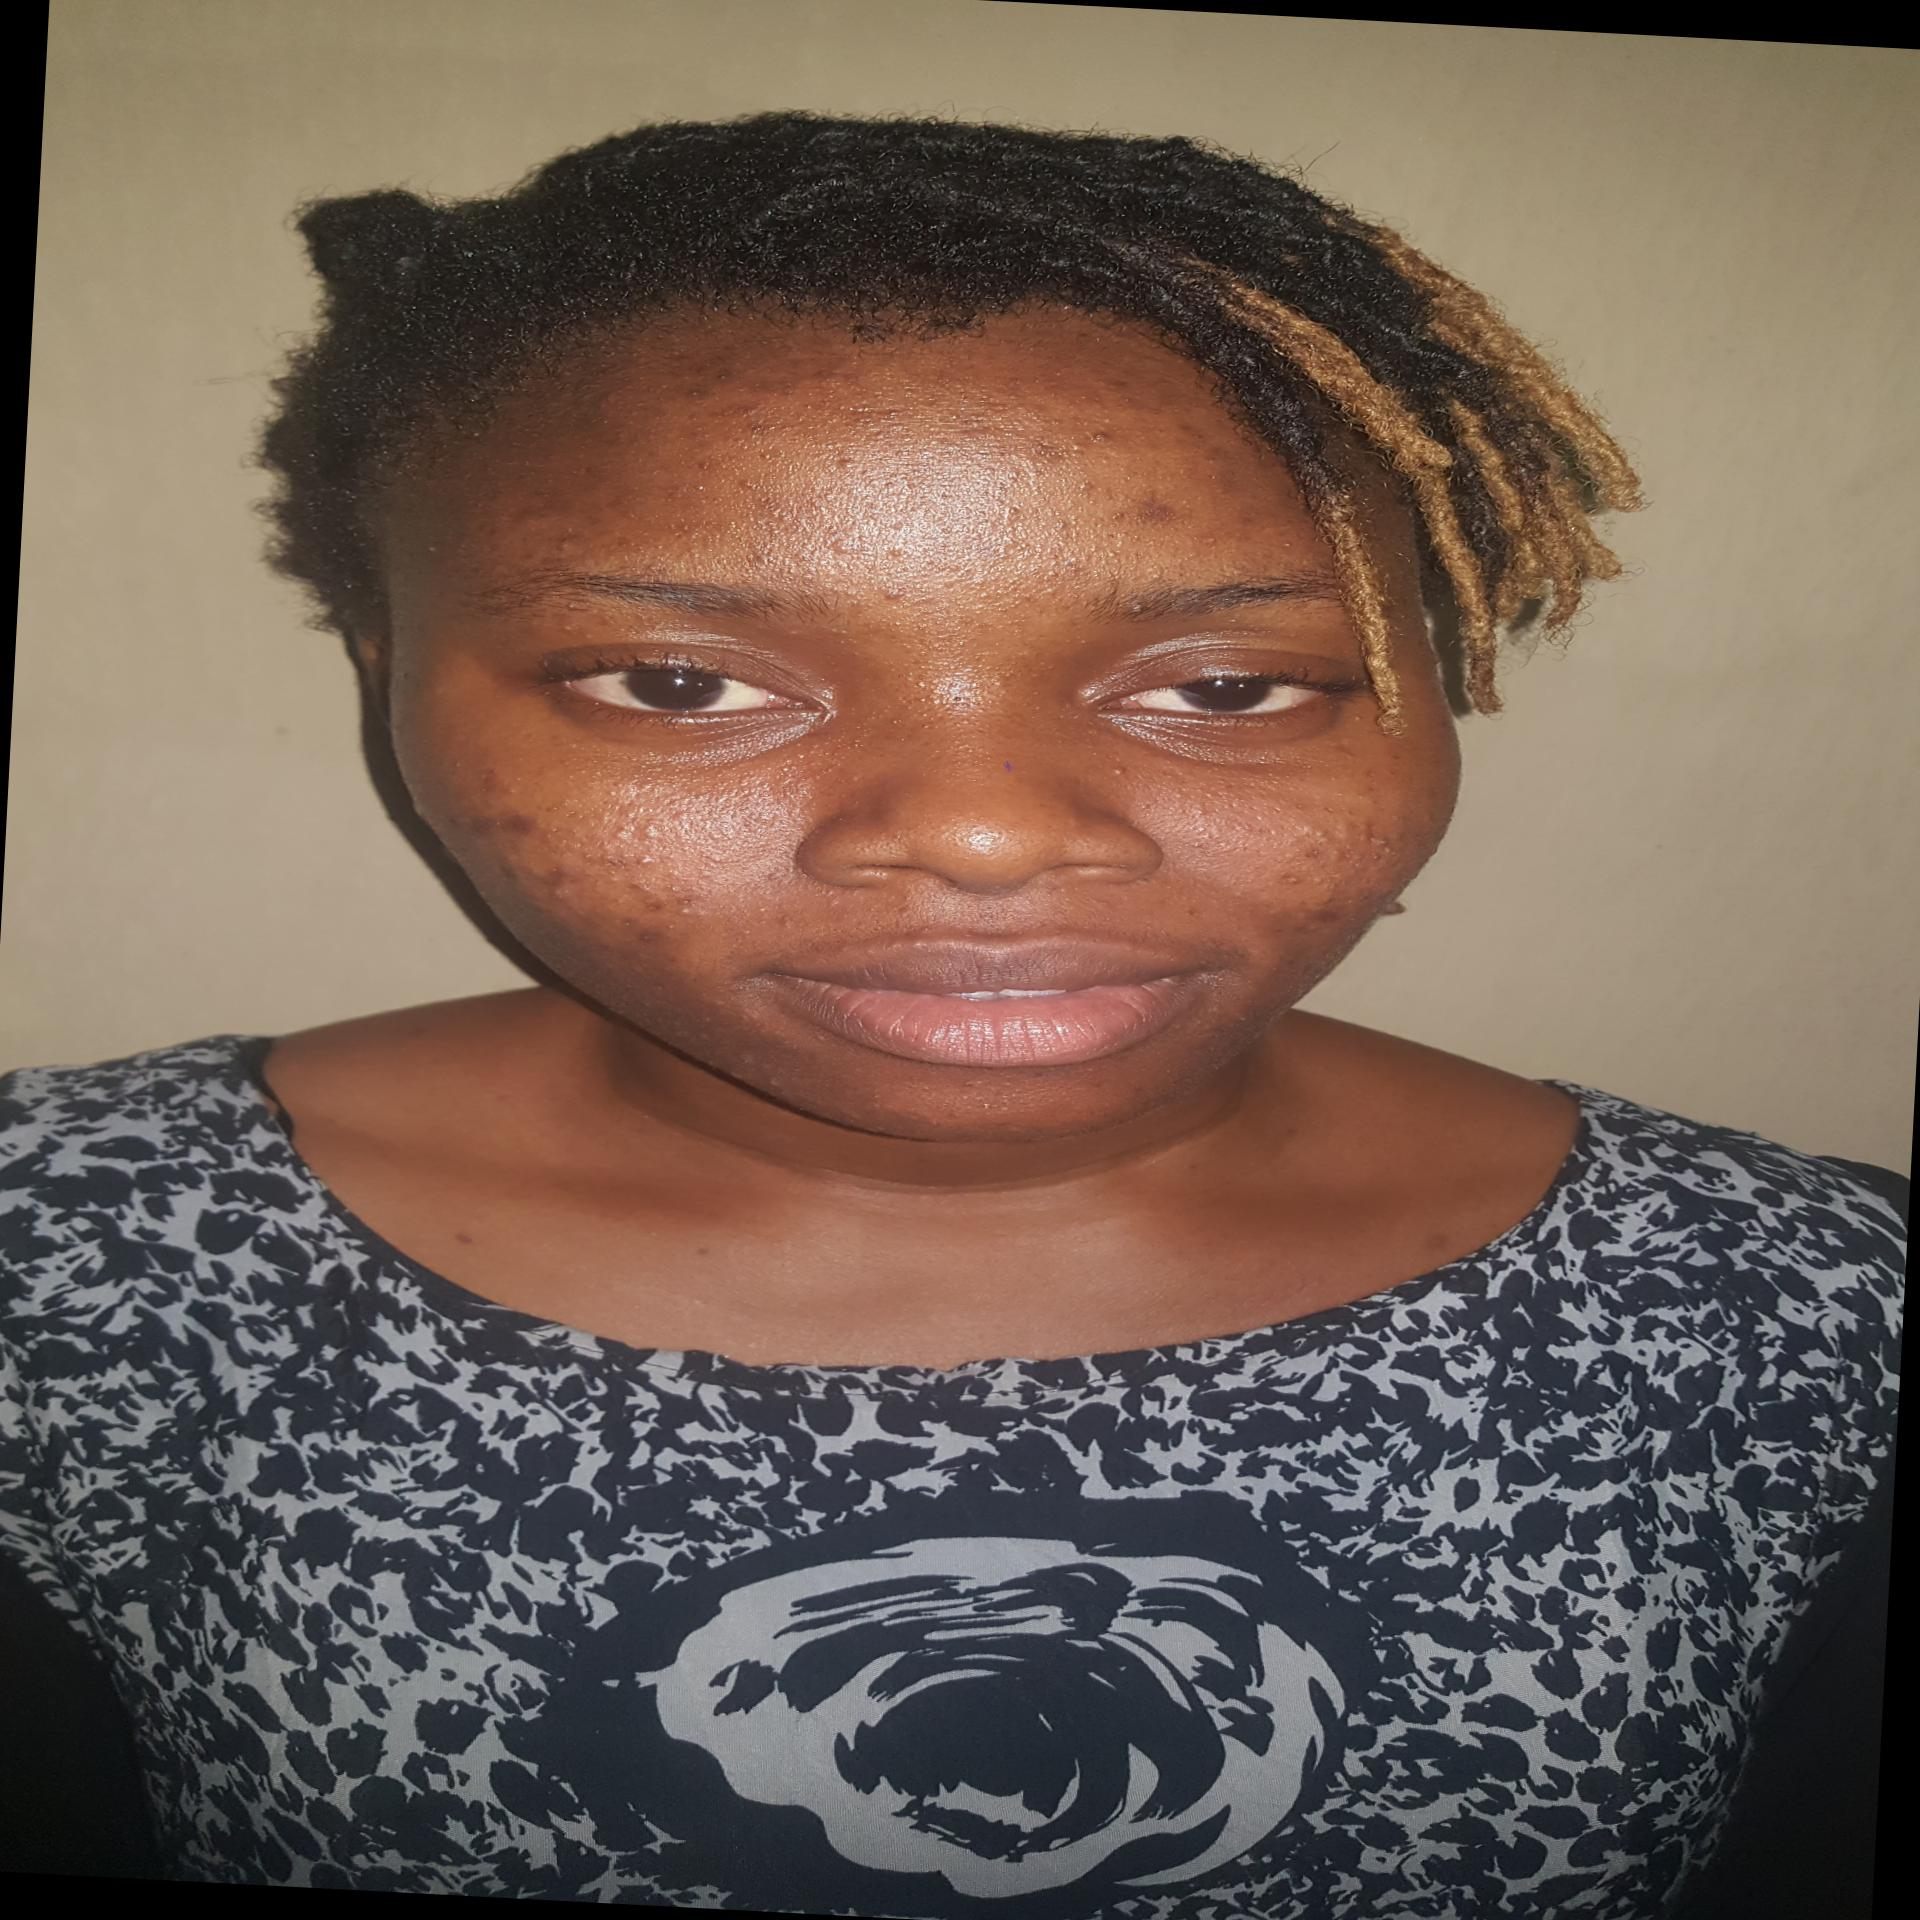Acne: (953, 424, 1087, 461), (434, 802, 550, 839), (1109, 489, 1182, 529), (466, 756, 515, 798), (622, 877, 670, 920), (605, 816, 666, 847), (837, 397, 911, 422), (543, 860, 580, 904), (621, 923, 673, 951), (1108, 392, 1162, 418), (1192, 438, 1231, 475), (629, 846, 666, 879), (1299, 907, 1349, 930), (770, 902, 812, 928), (1167, 417, 1211, 441), (547, 529, 589, 554), (1357, 761, 1384, 798), (738, 420, 784, 441), (751, 805, 786, 832), (707, 366, 747, 389), (1182, 800, 1222, 823), (825, 531, 853, 561), (1291, 819, 1333, 839), (726, 1046, 761, 1069), (805, 364, 844, 383), (828, 452, 863, 473), (1370, 833, 1398, 860), (1173, 835, 1213, 853), (1190, 529, 1224, 550), (680, 383, 716, 403), (877, 582, 911, 601), (1071, 475, 1099, 496), (1102, 375, 1136, 392), (884, 535, 905, 561), (1294, 844, 1326, 862), (999, 499, 1027, 519), (1087, 429, 1118, 445), (691, 454, 719, 471), (751, 334, 784, 348), (1122, 600, 1155, 614), (753, 450, 786, 464), (916, 436, 949, 448), (881, 897, 909, 911), (1109, 765, 1138, 777), (1278, 870, 1299, 886), (737, 478, 760, 492), (1041, 568, 1062, 582)
Englarged Pores: (605, 765, 814, 916), (1132, 788, 1299, 874)
